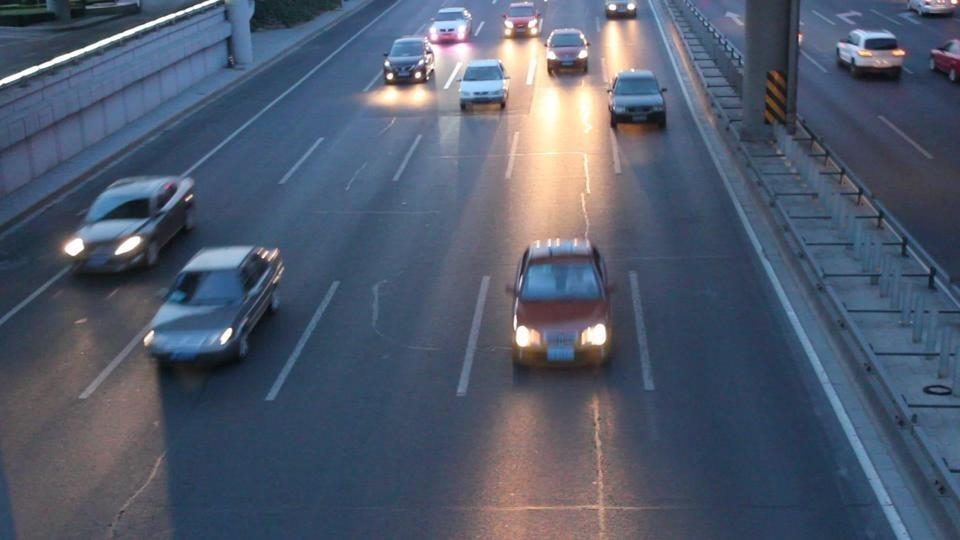car: (142, 244, 287, 371), (507, 238, 615, 372), (61, 173, 197, 276), (836, 27, 908, 80), (608, 69, 668, 129), (458, 59, 511, 112), (382, 37, 437, 85), (544, 29, 590, 75), (429, 7, 474, 44), (501, 2, 543, 38), (929, 39, 960, 84), (907, 0, 958, 18), (604, 0, 638, 19)
